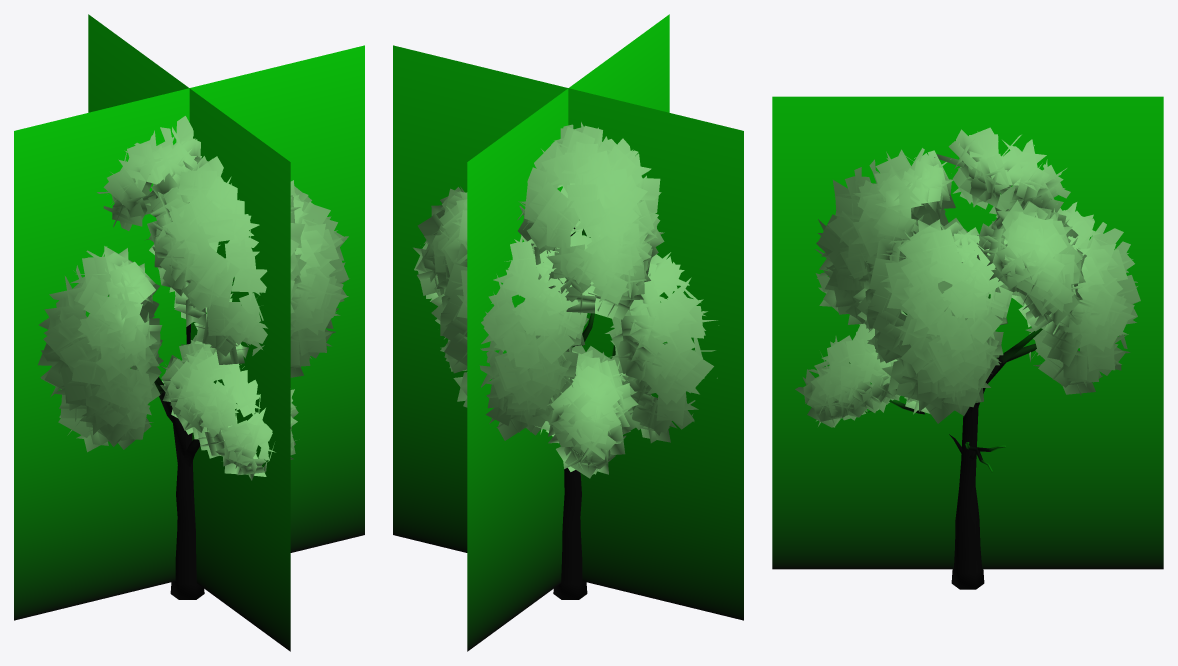
File: Tree_Wide.fbx
3 views of the same model, side by side, from view 1: azimuth 30°, elevation 25°; view 2: azimuth 150°, elevation 25°; view 3: azimuth 270°, elevation 25° (orthographic). The views are drawn at different scales.
Visible parts, largest first — view 1: IL3DN_Tree_Birch_02_Card, IL3DN_Tree_Birch_02_Leaves_LOD0, IL3DN_Tree_Birch_02_Branch_LOD0; view 2: IL3DN_Tree_Birch_02_Card, IL3DN_Tree_Birch_02_Leaves_LOD0, IL3DN_Tree_Birch_02_Branch_LOD0; view 3: IL3DN_Tree_Birch_02_Card, IL3DN_Tree_Birch_02_Leaves_LOD0, IL3DN_Tree_Birch_02_Branch_LOD0.
Part boxes in pixels (x1=…): IL3DN_Tree_Birch_02_Card: x1=14, y1=14, x2=364, y2=651; IL3DN_Tree_Birch_02_Leaves_LOD0: x1=38, y1=116, x2=349, y2=480; IL3DN_Tree_Birch_02_Branch_LOD0: x1=130, y1=278, x2=234, y2=599; IL3DN_Tree_Birch_02_Card: x1=393, y1=14, x2=743, y2=651; IL3DN_Tree_Birch_02_Leaves_LOD0: x1=413, y1=122, x2=718, y2=478; IL3DN_Tree_Birch_02_Branch_LOD0: x1=553, y1=220, x2=667, y2=599; IL3DN_Tree_Birch_02_Card: x1=772, y1=96, x2=1163, y2=569; IL3DN_Tree_Birch_02_Leaves_LOD0: x1=795, y1=127, x2=1140, y2=427; IL3DN_Tree_Birch_02_Branch_LOD0: x1=849, y1=294, x2=1042, y2=589.
Size of what is drawn, in the model's own units: 600 by 826 by 600.
